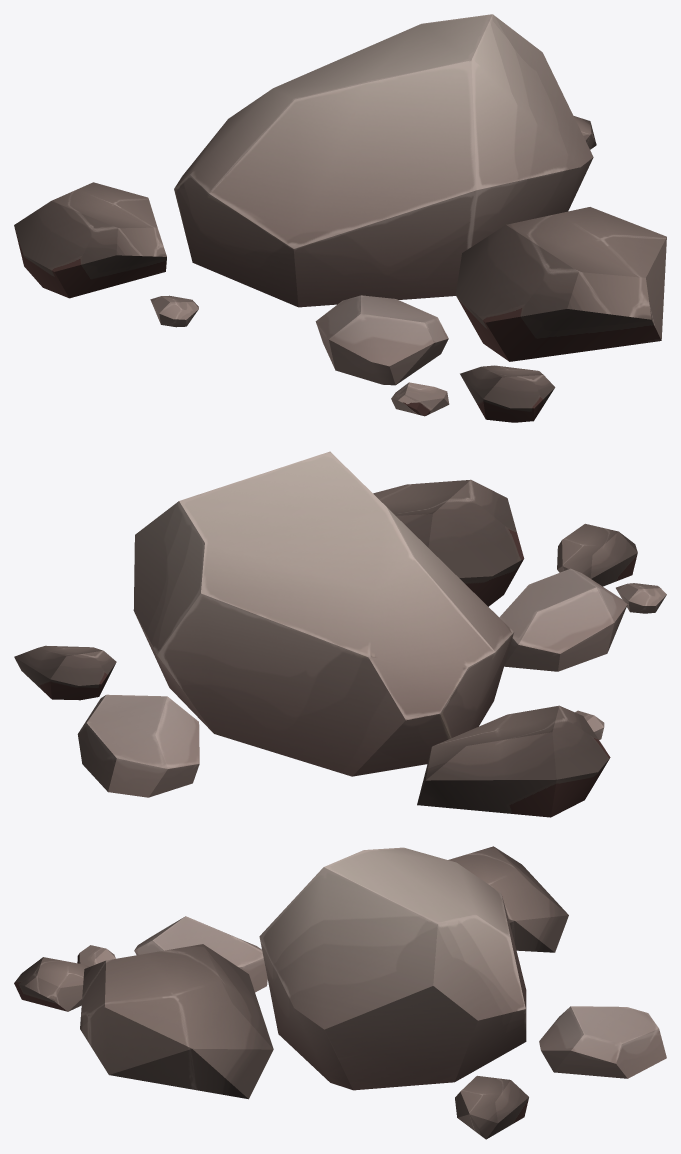
File: resource_rocks.fbx
3 views of the same model, one above another, from view 1: azimuth 30°, elevation 25°; view 2: azimuth 150°, elevation 25°; view 3: azimuth 270°, elevation 25° (orthographic). The views are drawn at different scales.
Visible parts, largest first — view 1: resource_rocks; view 2: resource_rocks; view 3: resource_rocks.
Boxes of the visible parts, x1=… form: resource_rocks: x1=14, y1=14, x2=666, y2=422; resource_rocks: x1=14, y1=451, x2=666, y2=817; resource_rocks: x1=14, y1=846, x2=666, y2=1139.
Size of the model in its own units: 104 by 35.82 by 116.
